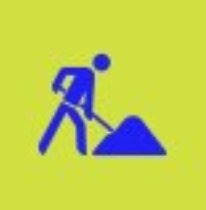CONSTRUCTION: (28, 38, 173, 172)
